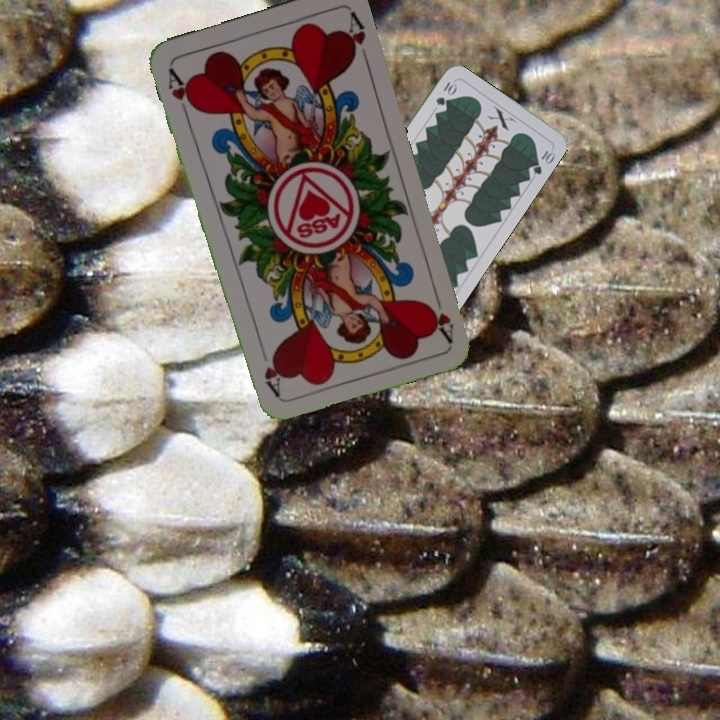G10: (432, 78, 459, 108)
HA: (422, 286, 457, 344), (164, 63, 198, 120)
